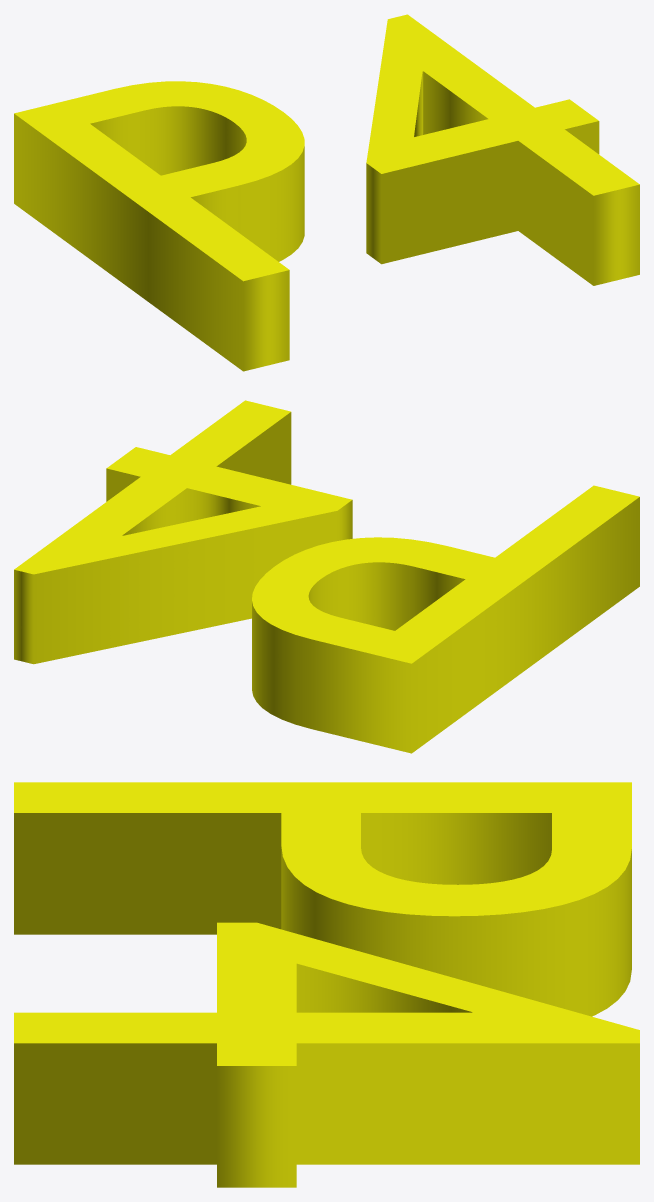
Rendered from player4.fbx.
3 views of the same model, one above another, from view 1: azimuth 30°, elevation 25°; view 2: azimuth 150°, elevation 25°; view 3: azimuth 270°, elevation 25° (orthographic). The views are drawn at different scales.
Parts seen in each view (by area): view 1: Text; view 2: Text; view 3: Text.
Part boxes in pixels (box(x1,y1,x2,y2)): Text: box(14, 14, 639, 371); Text: box(14, 400, 639, 753); Text: box(14, 782, 639, 1187).
Size of the model in its own units: 1.5 by 0.3 by 1.4.
